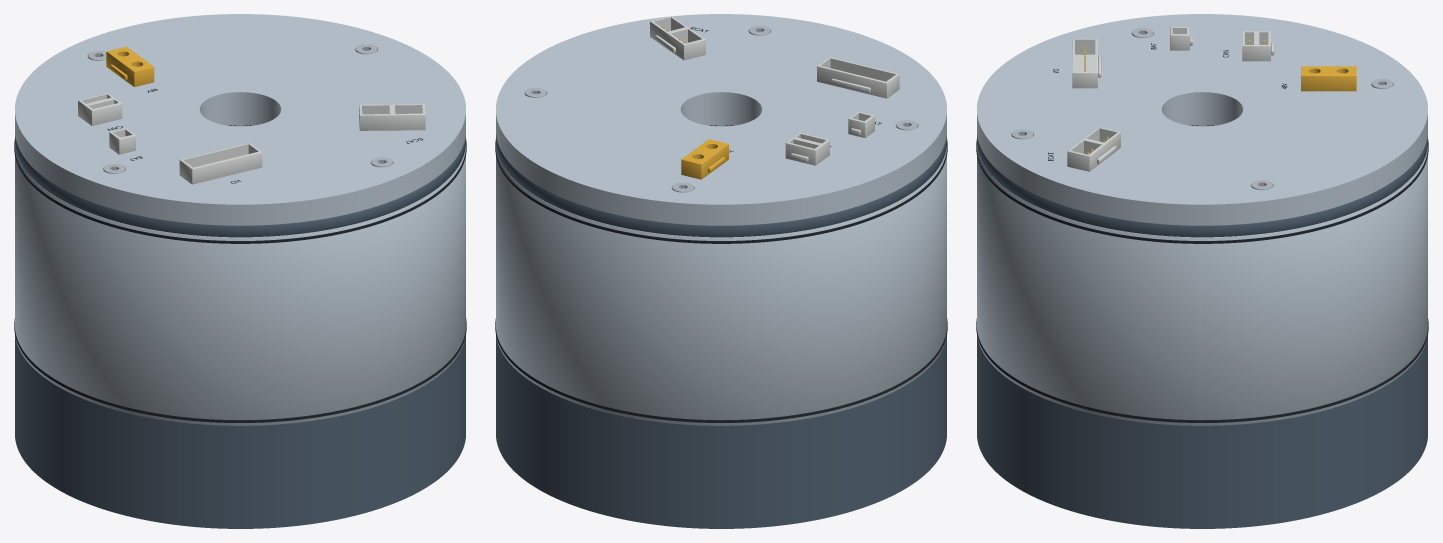
The model's file is harmonic-joint.glb.
The picture shows the model from 3 angles, left to right: view 1: azimuth 30°, elevation 25°; view 2: azimuth 150°, elevation 25°; view 3: azimuth 270°, elevation 25°; orthographic projection.
Parts seen in each view (by area): view 1: housing-full, rear-interface-cover, housing-section, reducer-case-band, rear-cover-skirt, base-flange, output-fixed-mount-ring, rear-io-socket, rear-bore-collar, rear-ethercat-sockets, housing-rear-seam, housing-front-seam (+4 smaller); view 2: housing-full, rear-interface-cover, reducer-case-band, housing-section, rear-cover-skirt, base-flange, output-fixed-mount-ring, rear-io-socket, rear-bore-collar, housing-rear-seam, housing-front-seam, rear-ethercat-sockets (+4 smaller); view 3: housing-full, rear-interface-cover, reducer-case-band, housing-section, rear-cover-skirt, base-flange, output-fixed-mount-ring, rear-bore-collar, housing-rear-seam, housing-front-seam, rear-ethercat-sockets, rear-power-socket (+3 smaller).
Boxes of the visible parts, left/top/right/bottom form: housing-full: left=15, top=147, right=465, bottom=425; rear-interface-cover: left=15, top=14, right=465, bottom=209; housing-section: left=15, top=146, right=465, bottom=425; reducer-case-band: left=15, top=336, right=465, bottom=519; rear-cover-skirt: left=15, top=119, right=465, bottom=225; base-flange: left=15, top=135, right=465, bottom=237; output-fixed-mount-ring: left=15, top=429, right=465, bottom=528; rear-io-socket: left=179, top=143, right=262, bottom=184; rear-bore-collar: left=200, top=96, right=280, bottom=125; rear-ethercat-sockets: left=359, top=104, right=425, bottom=130; housing-rear-seam: left=14, top=139, right=466, bottom=243; housing-front-seam: left=14, top=318, right=466, bottom=422; housing-full: left=496, top=146, right=946, bottom=425; rear-interface-cover: left=496, top=14, right=946, bottom=209; reducer-case-band: left=496, top=336, right=946, bottom=519; housing-section: left=609, top=149, right=946, bottom=425; rear-cover-skirt: left=496, top=119, right=946, bottom=225; base-flange: left=496, top=135, right=946, bottom=237; output-fixed-mount-ring: left=496, top=429, right=946, bottom=528; rear-io-socket: left=817, top=57, right=899, bottom=98; rear-bore-collar: left=681, top=96, right=761, bottom=125; housing-rear-seam: left=495, top=139, right=947, bottom=243; housing-front-seam: left=495, top=318, right=947, bottom=422; rear-ethercat-sockets: left=650, top=16, right=705, bottom=60; housing-full: left=977, top=146, right=1427, bottom=425; rear-interface-cover: left=977, top=14, right=1427, bottom=209; reducer-case-band: left=977, top=336, right=1427, bottom=519; housing-section: left=977, top=146, right=1201, bottom=425; rear-cover-skirt: left=977, top=119, right=1427, bottom=225; base-flange: left=977, top=135, right=1427, bottom=237; output-fixed-mount-ring: left=977, top=429, right=1427, bottom=528; rear-bore-collar: left=1162, top=96, right=1242, bottom=125; housing-rear-seam: left=976, top=139, right=1428, bottom=243; housing-front-seam: left=976, top=318, right=1428, bottom=422; rear-ethercat-sockets: left=1067, top=127, right=1120, bottom=171; rear-power-socket: left=1301, top=66, right=1356, bottom=91.
Size of the model in its own units: 0.1002 by 0.0881 by 0.1002.
